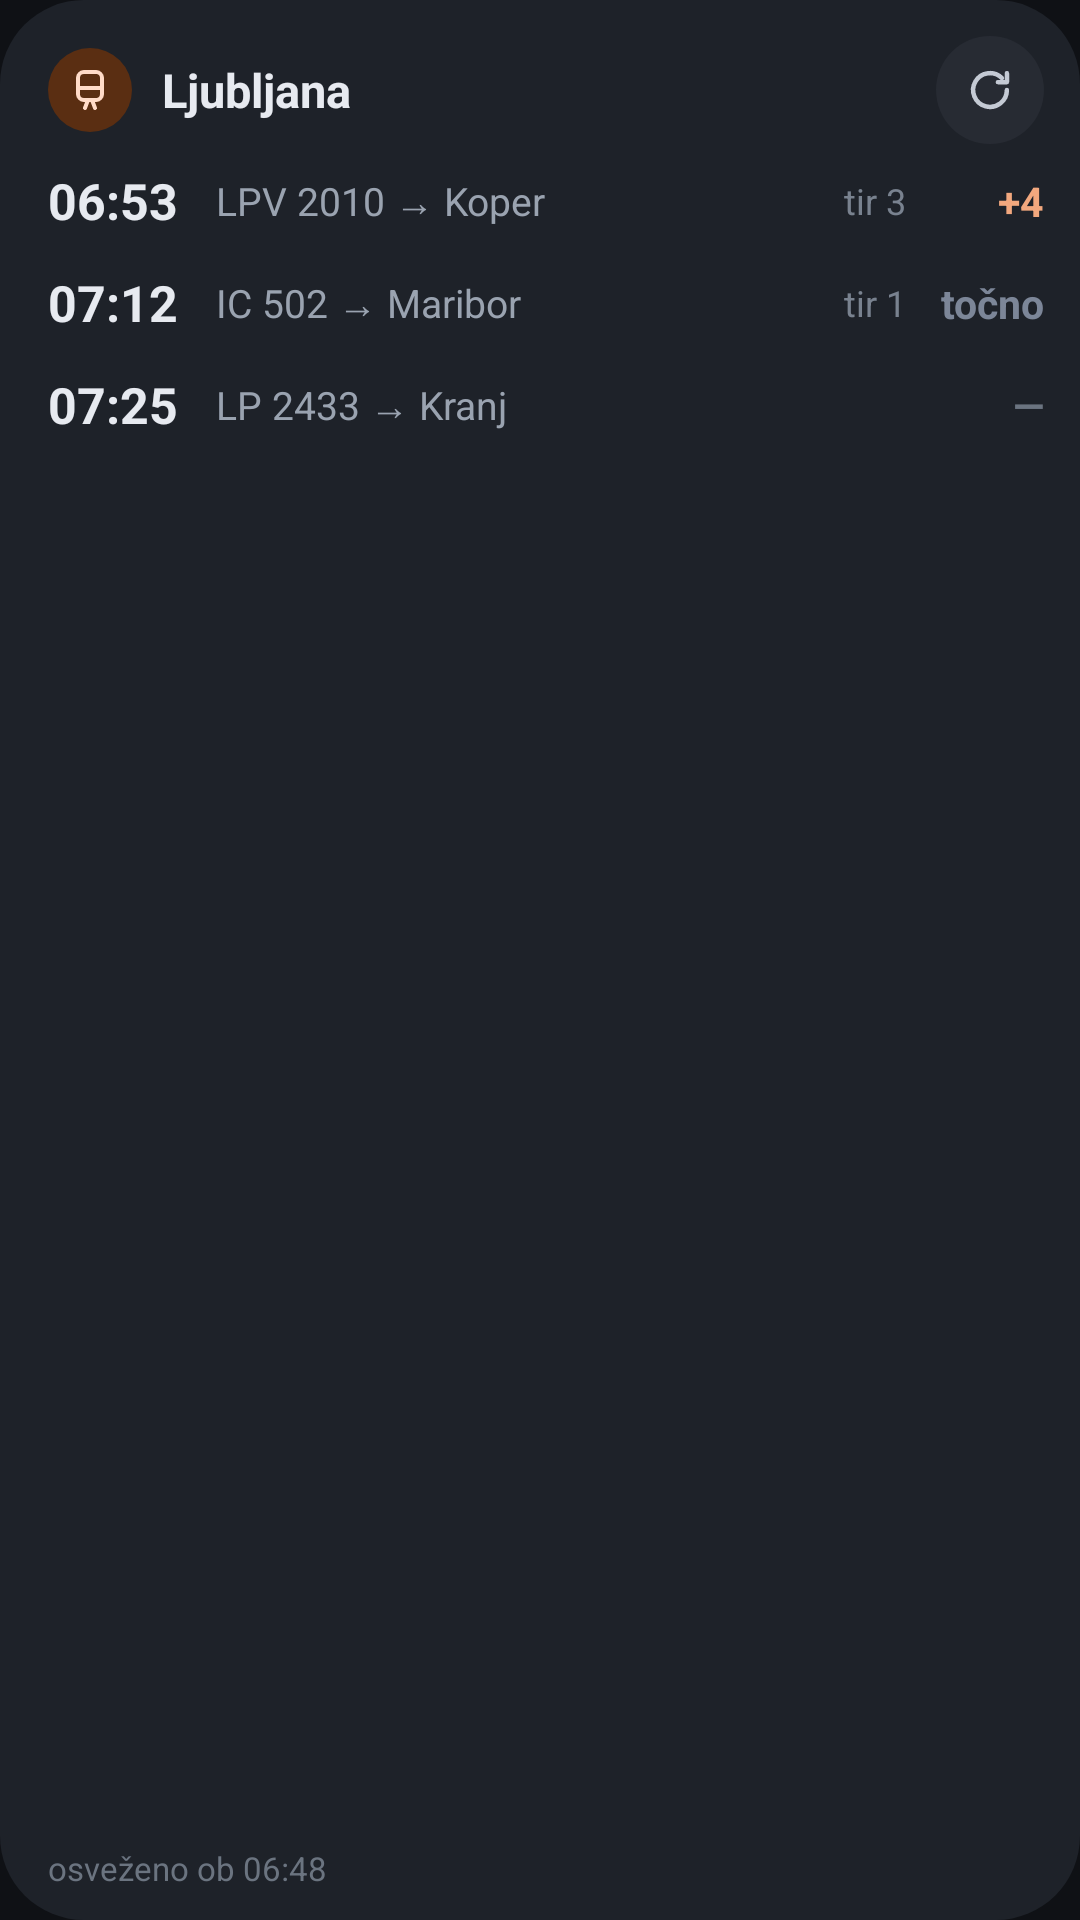

Named icons in this screenshot (1080x1920) and their bounding boxes, (x1, y1, x2, y2):
ikona osvezi: (936, 36, 1044, 144)
ikona vlak: (48, 48, 132, 132)
